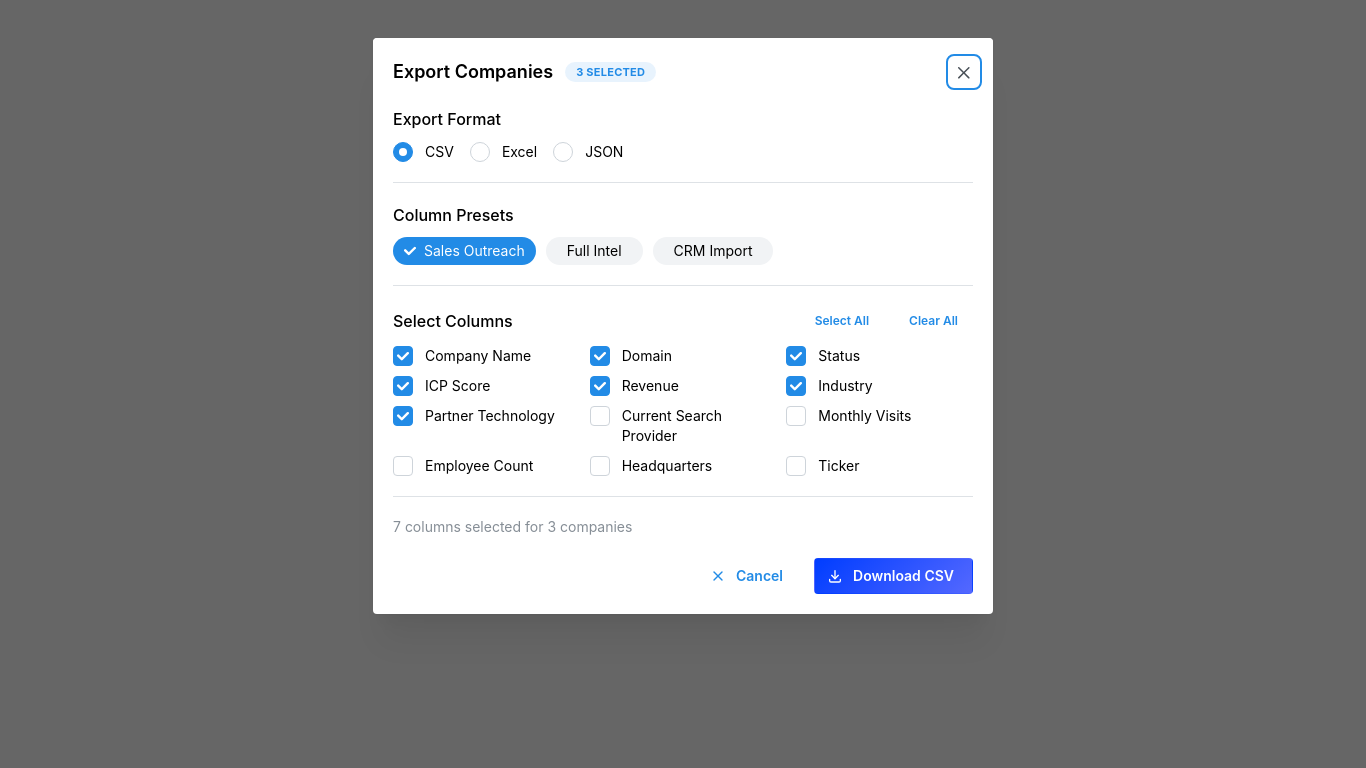
Test: ExportModal format selection › only one format can be selected at a time
Click the radio button labelled "JSON" at (563, 152), box top-left (553, 142), bottom-right (573, 162)
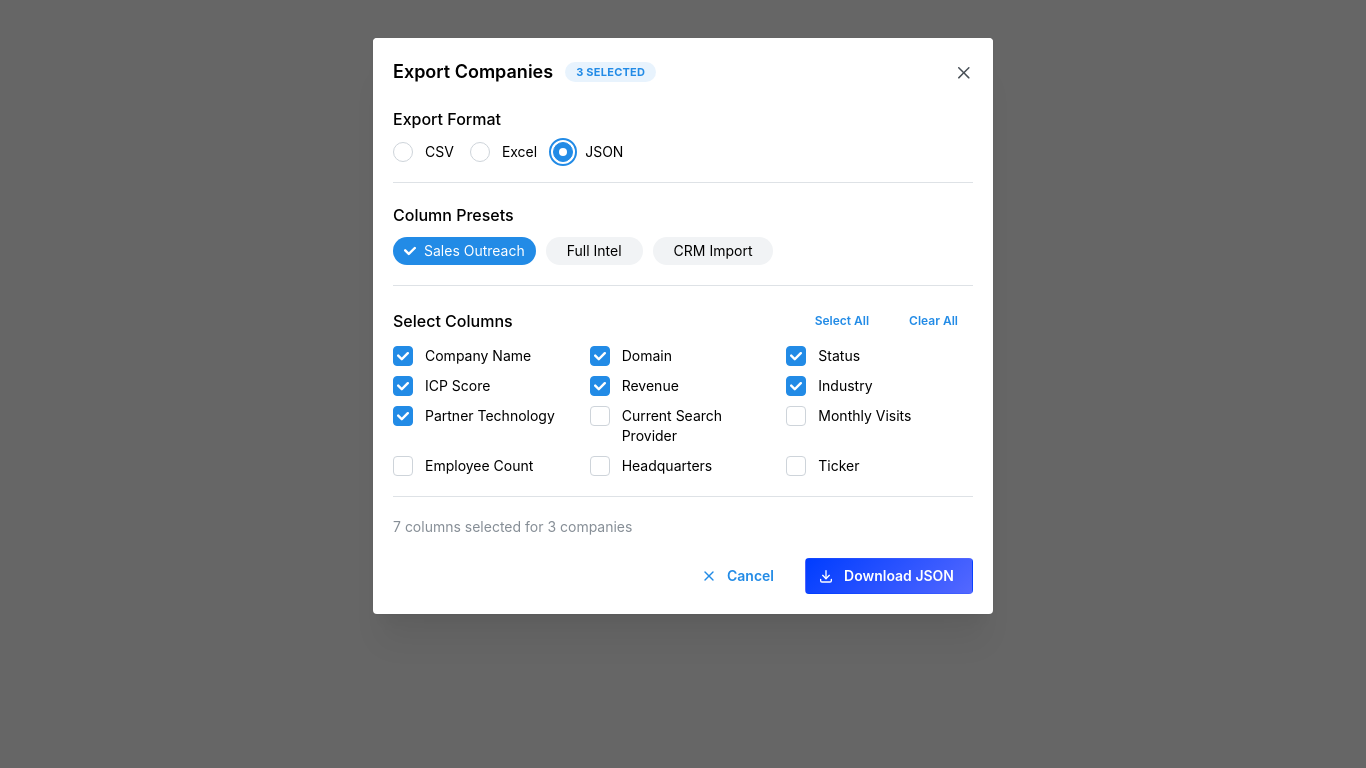
Expected: the radio button labelled "JSON" is checked, top-left (553, 142), bottom-right (573, 162)
Expected: the radio button labelled "CSV" is not checked, top-left (393, 142), bottom-right (413, 162)
